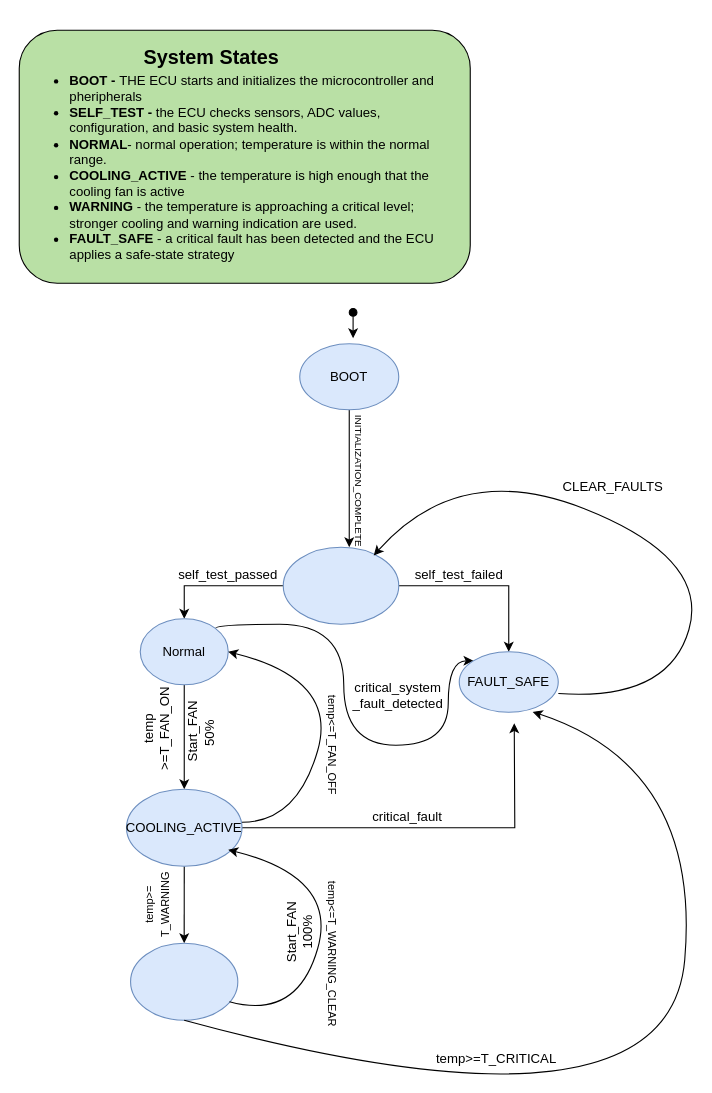
The diagram is 712 pixels wide and 1093 high, and some of its shapes have lost their labels. Here are the shapes that lost their labels. From the top down, the centre of each, then its label:
At pixel 340 585: "SELF_STATE".
At pixel 183 981: "WARNING".
